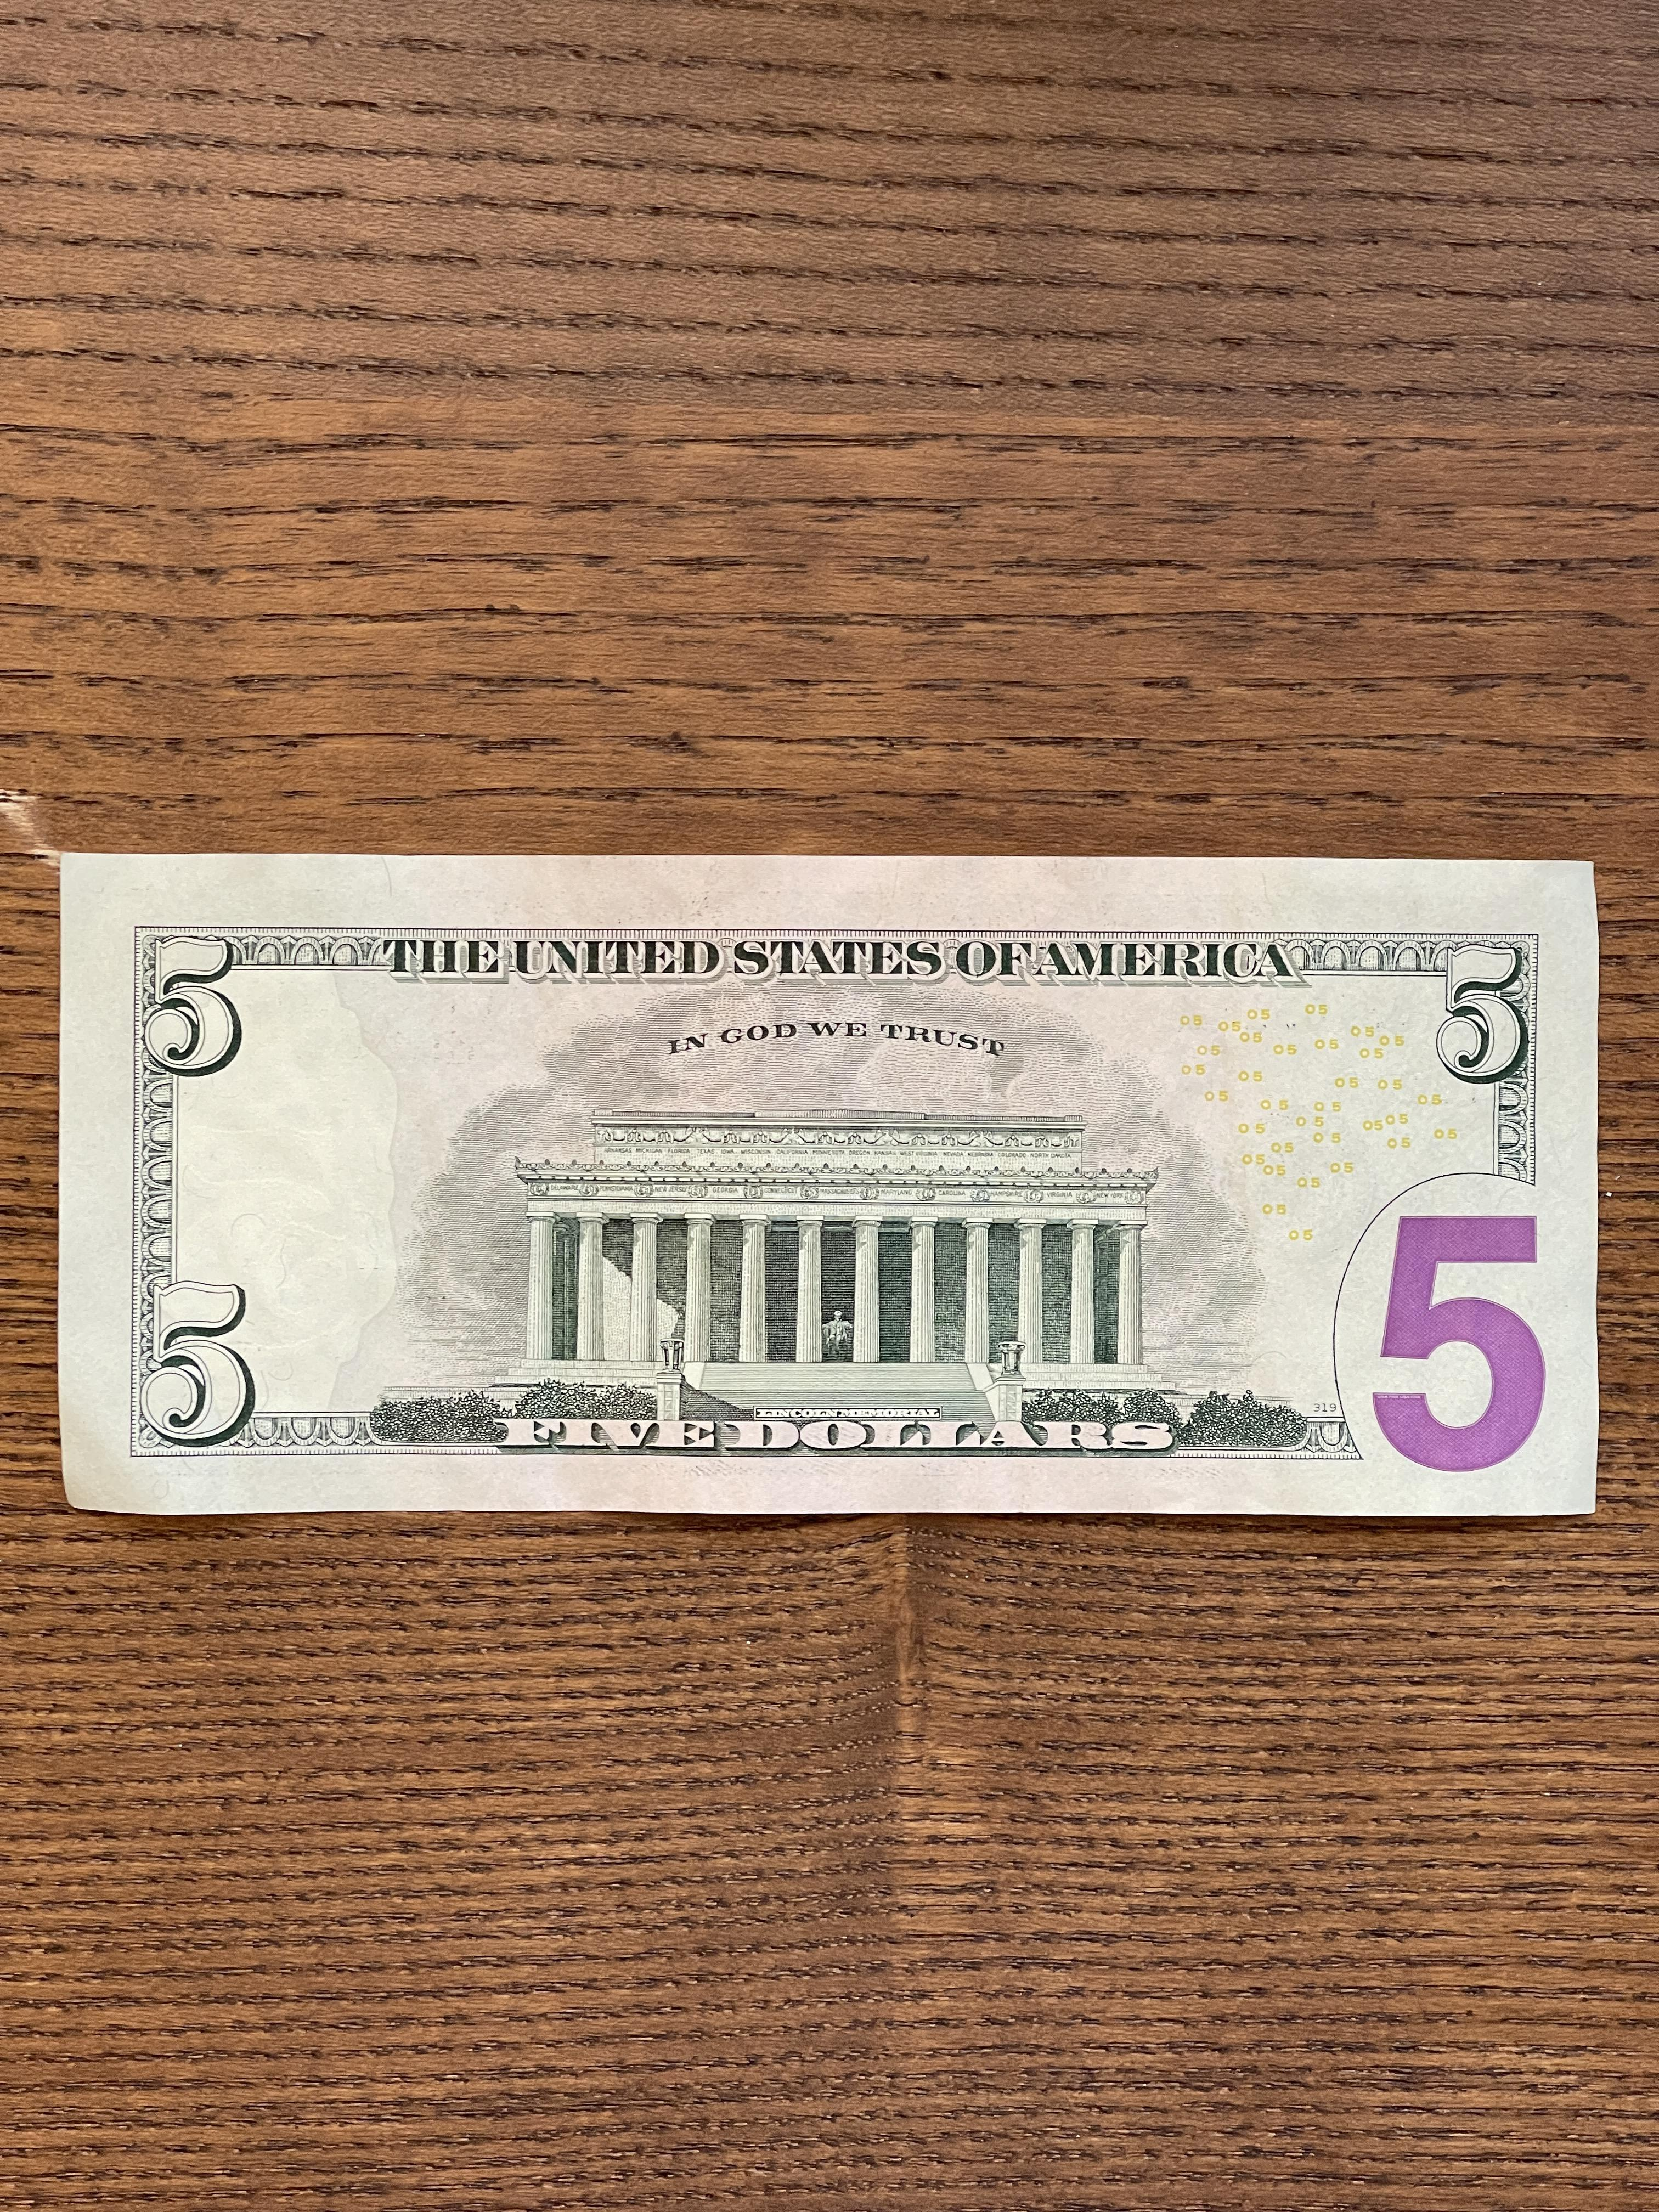FiveBill: (47, 846, 1607, 1519)
